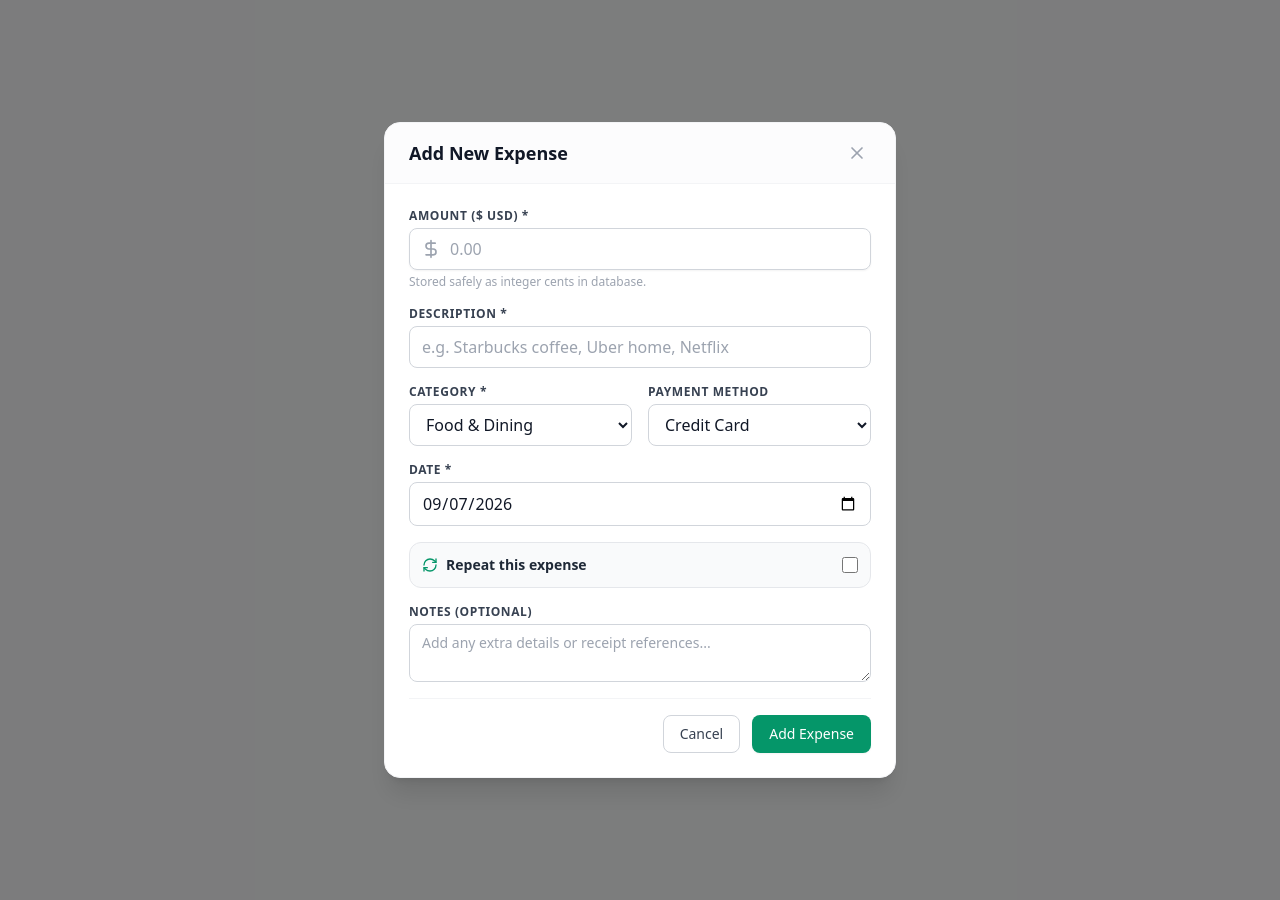
Test: ExpenseModal Component › should show a category suggestion banner for recognized descriptions
Type "Starbucks latte" into the field labelled "Description *" at (640, 347), box x1=409 y1=326 x2=871 y2=368
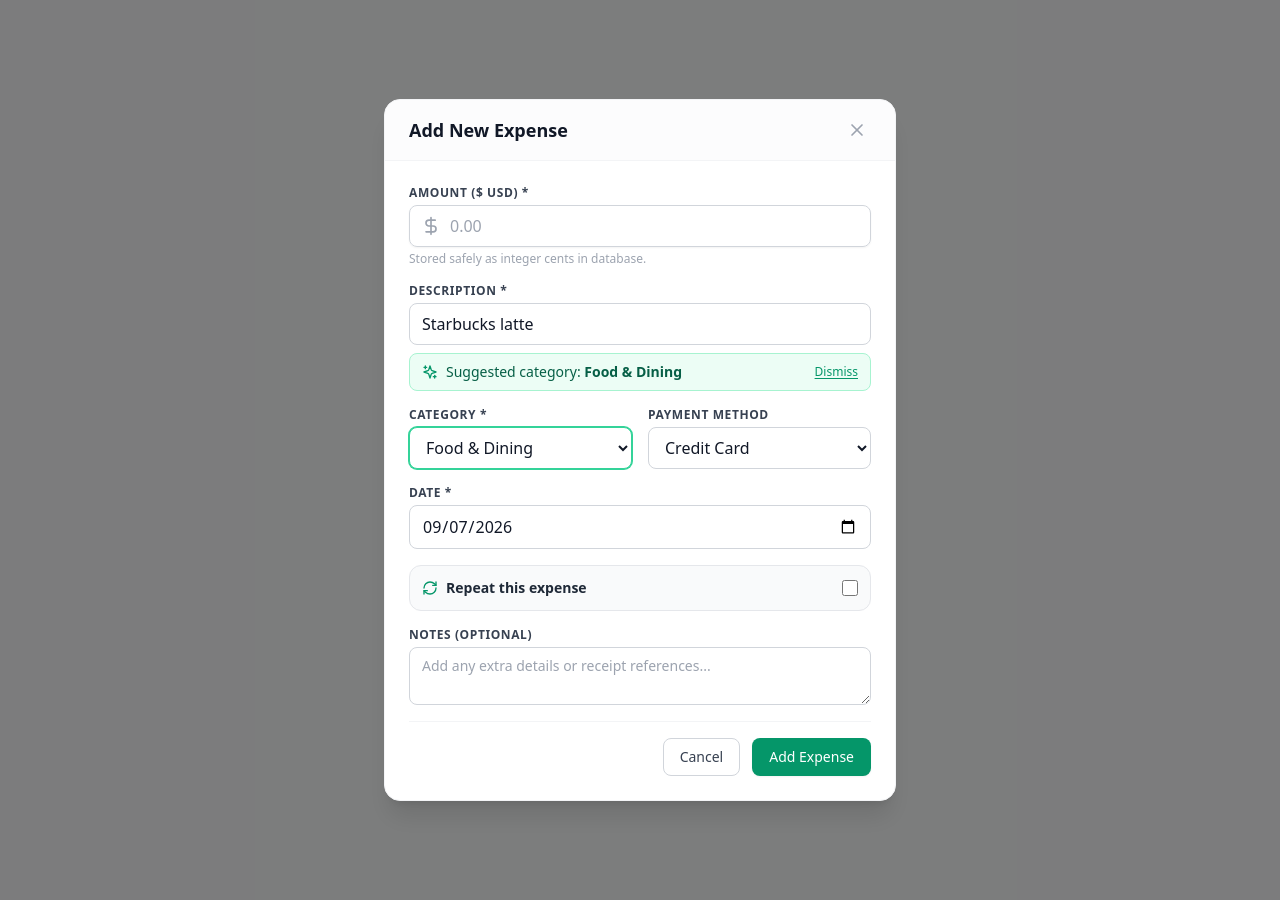
Expected: the message shows "Suggested category", x1=446 y1=362 x2=581 y2=381
Expected: the message shows "Food & Dining", x1=584 y1=362 x2=682 y2=381
